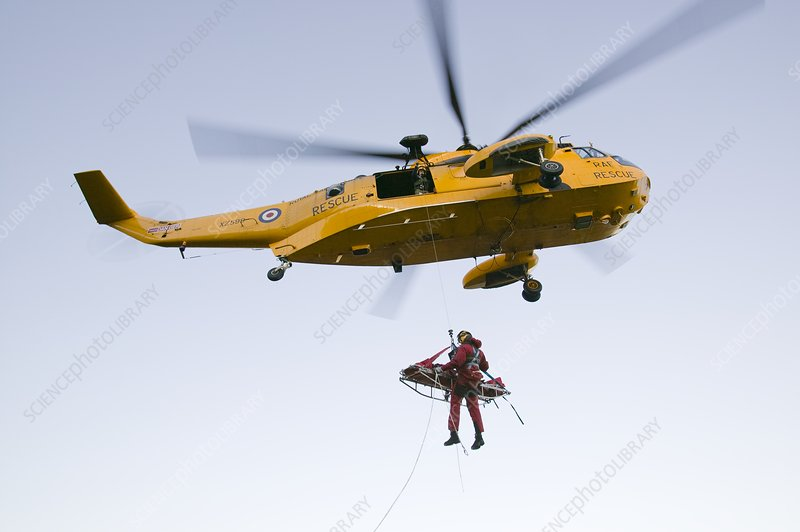Sea King: (69, 113, 671, 306)
